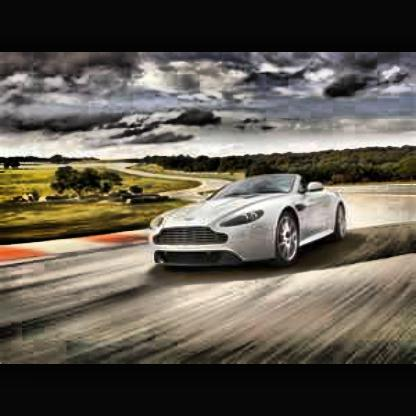Aston Martin V8 Vantage Coupe 2012: (147, 175, 350, 269)
